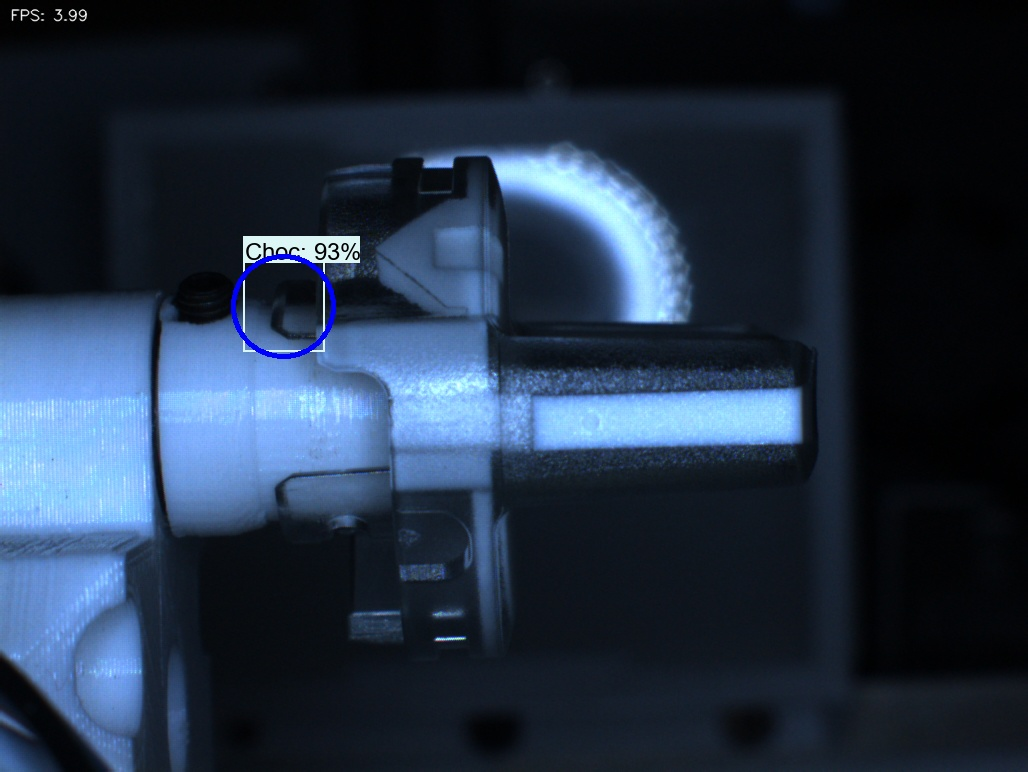DentOk: (341, 211, 411, 297)
